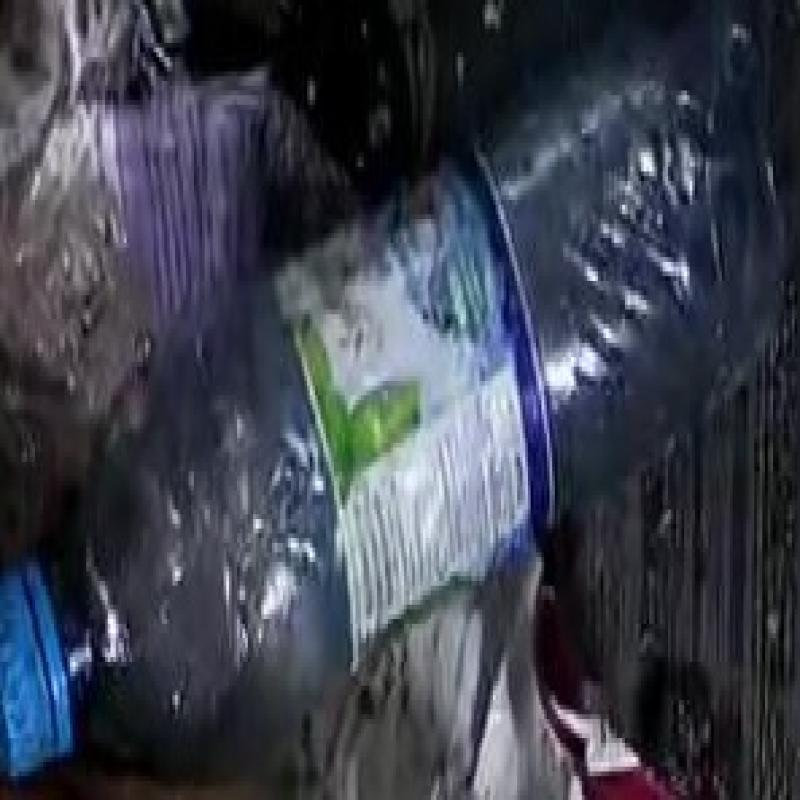botella: (2, 24, 800, 800)
